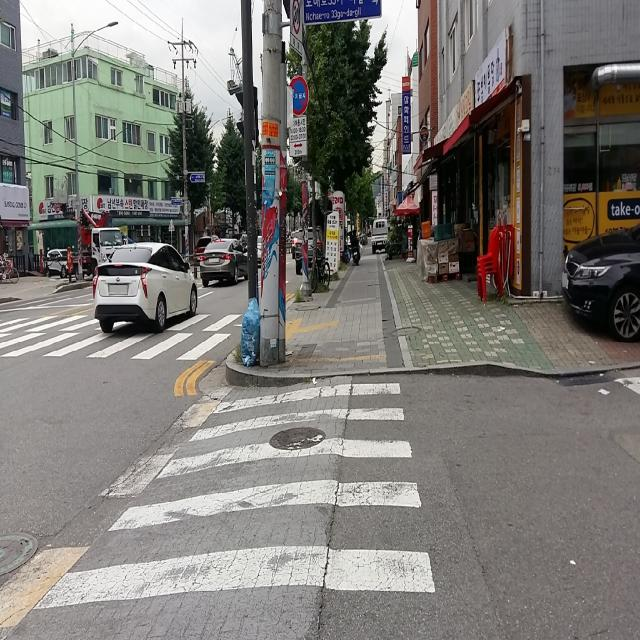횡단보도: (32, 380, 437, 612), (0, 320, 220, 356)
